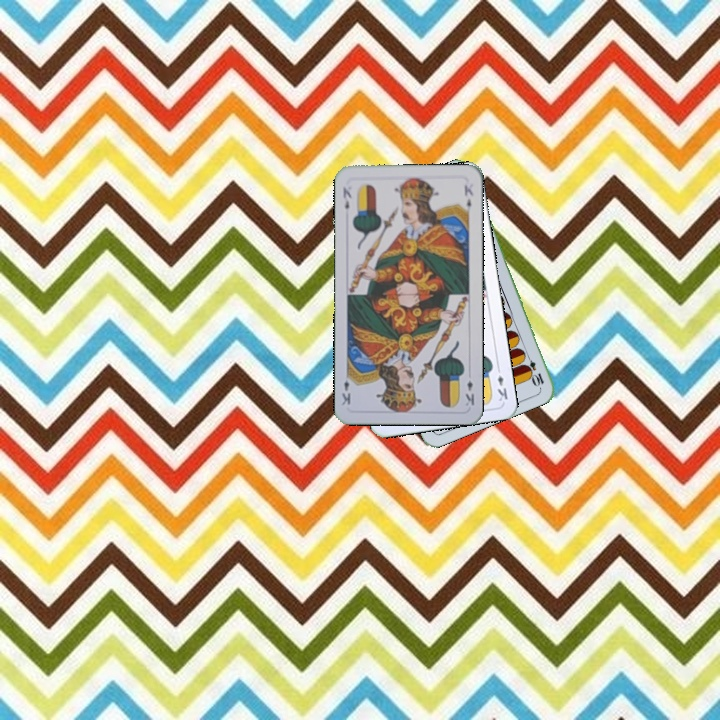E10: (521, 350, 547, 389)
EK: (493, 363, 510, 404), (462, 377, 477, 408), (339, 183, 354, 212)
